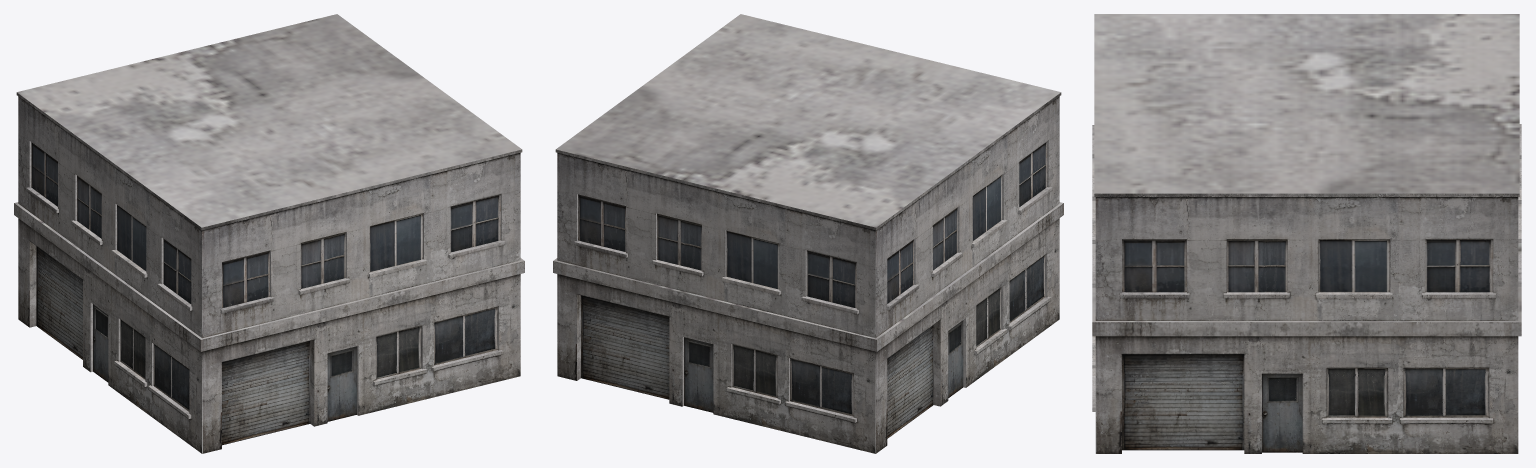
The model's file is Building_0.glb.
The picture shows the model from 3 angles, left to right: view 1: azimuth 30°, elevation 25°; view 2: azimuth 150°, elevation 25°; view 3: azimuth 270°, elevation 25°; orthographic projection. The views are drawn at different scales.
Parts seen in each view (by area): view 1: Building 2; view 2: Building 2; view 3: Building 2.
Boxes of the visible parts, x1=… form: Building 2: x1=14, y1=14, x2=524, y2=453; Building 2: x1=553, y1=14, x2=1063, y2=453; Building 2: x1=1092, y1=14, x2=1521, y2=453.
Size of the model in its own units: 10.09 by 6.75 by 10.09.
1 material, 1 textured.
